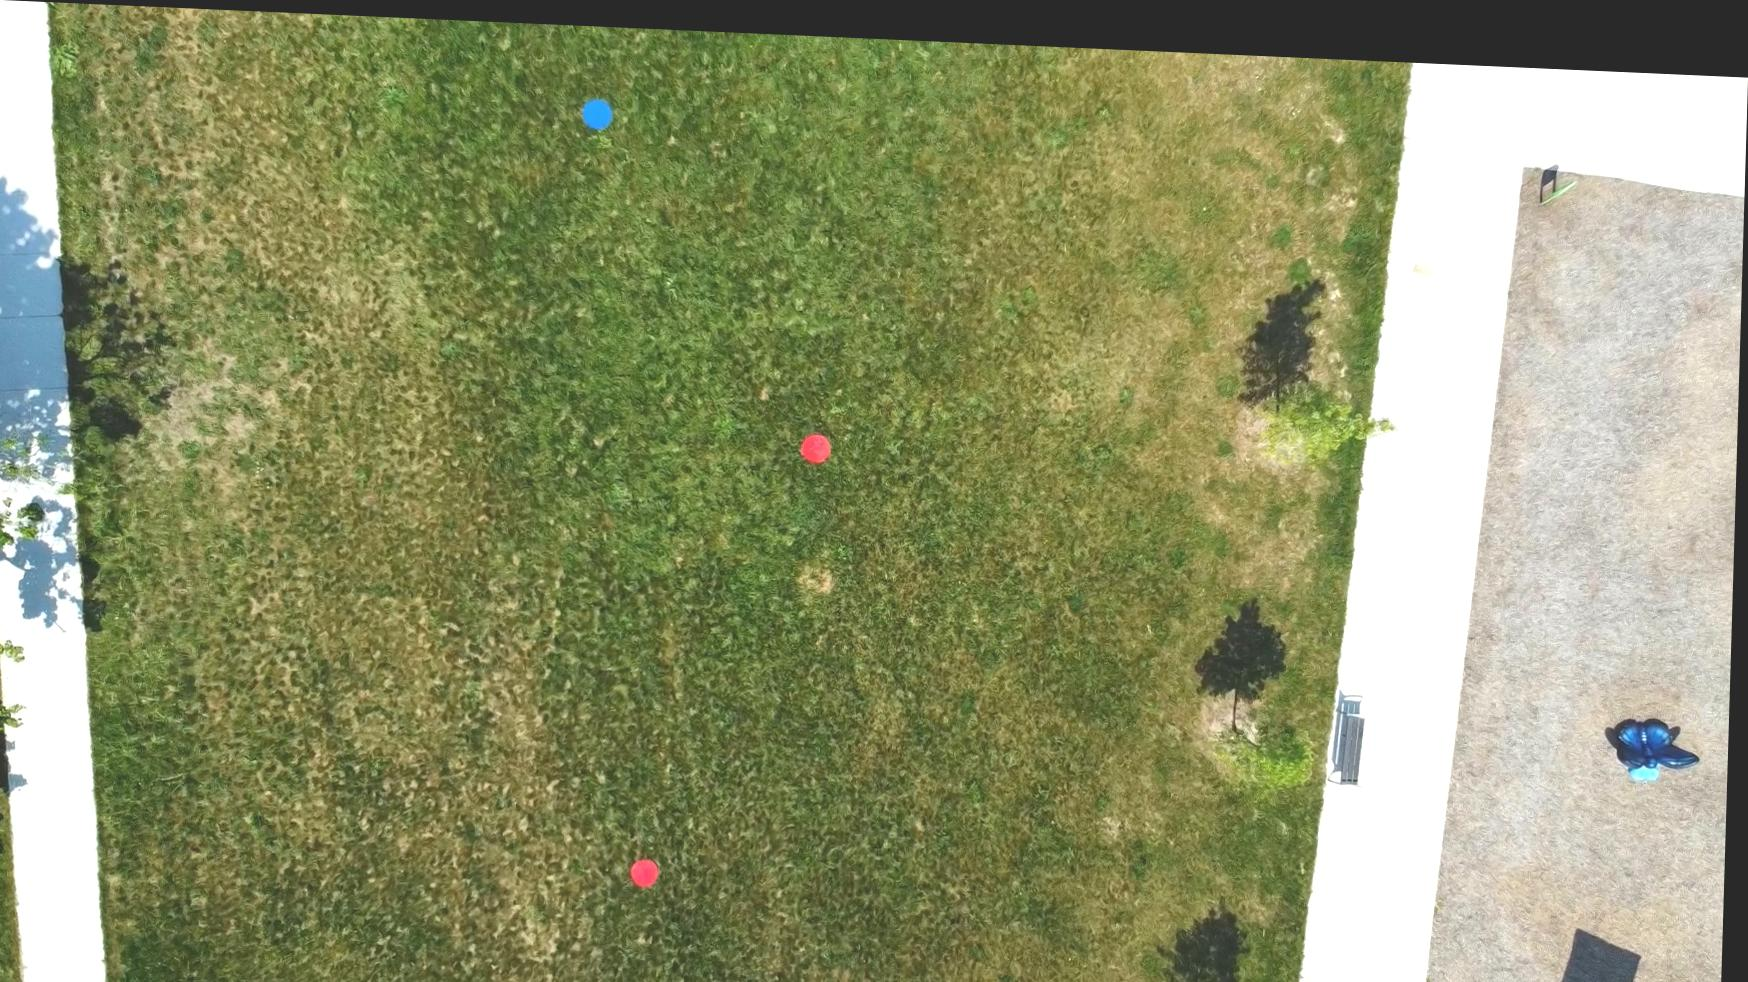Blue: (582, 95, 615, 126)
Red: (802, 425, 836, 457), (634, 851, 666, 882)
